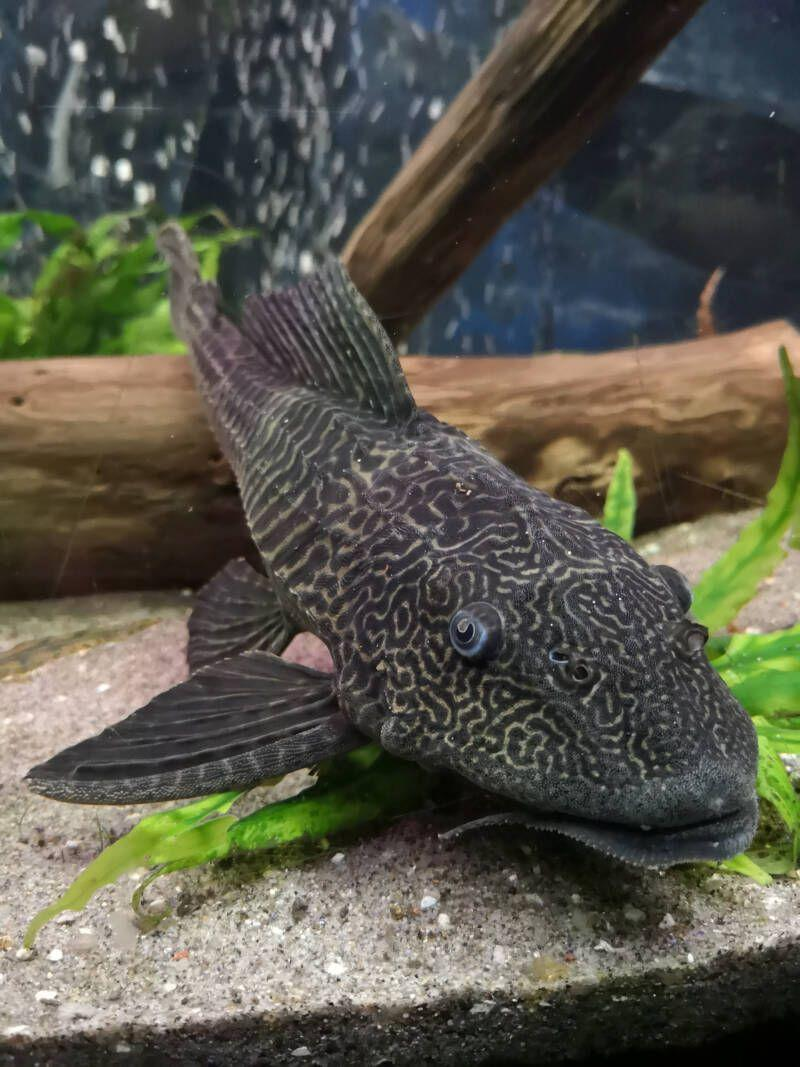Janitor Fish: (28, 217, 775, 880)
